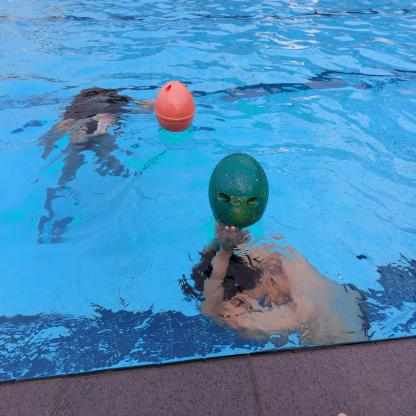green_buoy: (208, 150, 271, 228)
red_buoy: (153, 78, 197, 134)
